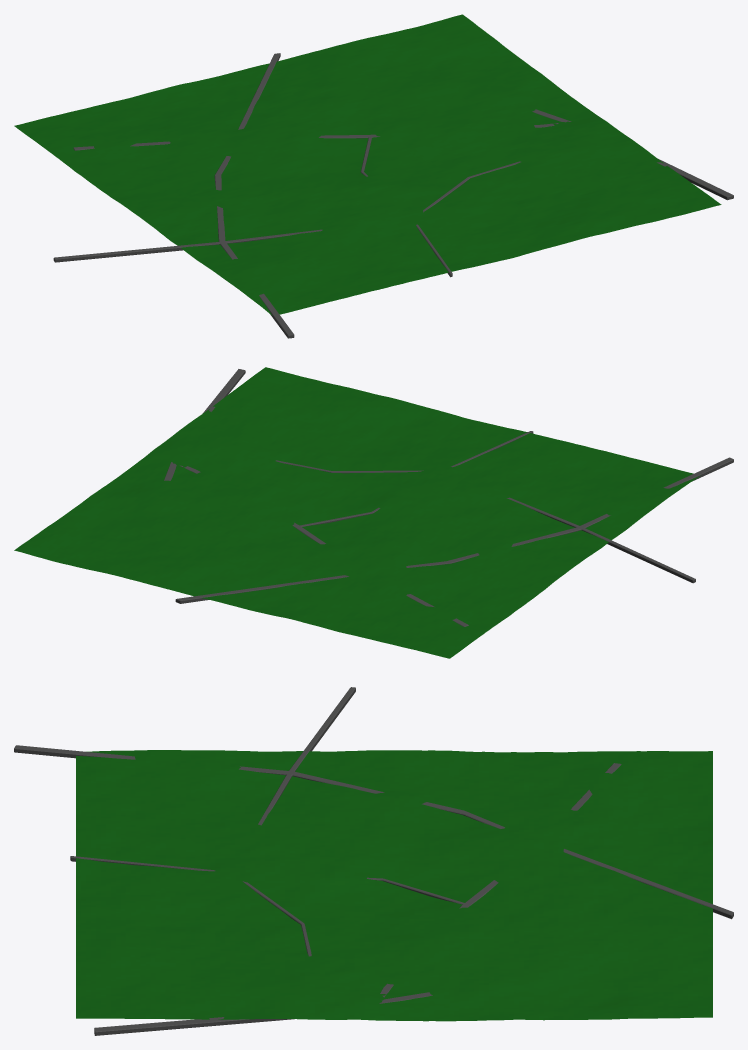
File: Terrain.fbx
The picture shows the model from 3 angles, top to bottom: view 1: azimuth 30°, elevation 25°; view 2: azimuth 150°, elevation 25°; view 3: azimuth 270°, elevation 25°; orthographic projection. The views are drawn at different scales.
Parts seen in each view (by area): view 1: grass_base.003, ground_path_2; view 2: grass_base.003, ground_path_2; view 3: grass_base.003, ground_path_2.
Part boxes in pixels (left/top/right/bottom): grass_base.003: left=14, top=14, right=721, bottom=315; ground_path_2: left=53, top=53, right=733, bottom=338; grass_base.003: left=14, top=367, right=699, bottom=658; ground_path_2: left=164, top=369, right=733, bottom=626; grass_base.003: left=76, top=750, right=712, bottom=1021; ground_path_2: left=14, top=687, right=733, bottom=1035.
Size of the model in its own units: 38454 by 336 by 33912.
